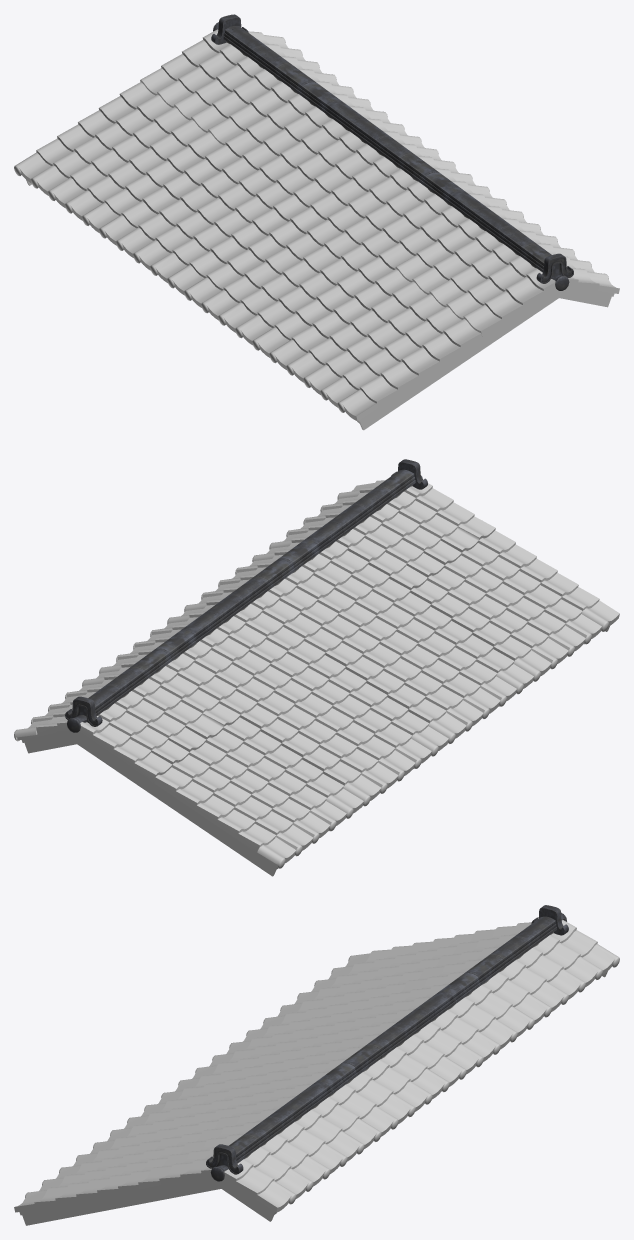
File: SM_KYT_Roof1F_A_S2.fbx
The picture shows the model from 3 angles, top to bottom: view 1: azimuth 30°, elevation 25°; view 2: azimuth 150°, elevation 25°; view 3: azimuth 330°, elevation 25°; orthographic projection.
Parts seen in each view (by area): view 1: SM_KYT_Roof1F_A_S2_LOD0; view 2: SM_KYT_Roof1F_A_S2_LOD0; view 3: SM_KYT_Roof1F_A_S2_LOD0.
Boxes of the visible parts, x1=… form: SM_KYT_Roof1F_A_S2_LOD0: x1=14, y1=14, x2=619, y2=430; SM_KYT_Roof1F_A_S2_LOD0: x1=14, y1=459, x2=619, y2=876; SM_KYT_Roof1F_A_S2_LOD0: x1=14, y1=905, x2=619, y2=1225.
Bounding box in the file's own units: 218 × 484 × 97.3.
